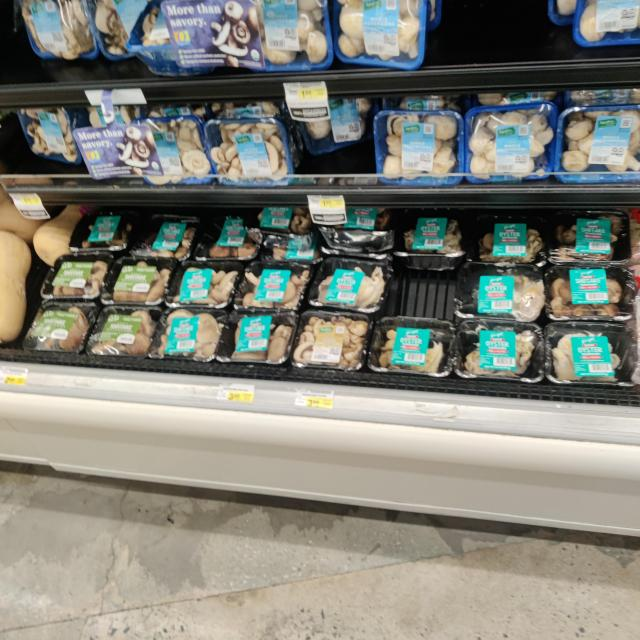Mushroom: (466, 101, 557, 184), (332, 0, 427, 69), (556, 106, 640, 184), (375, 110, 463, 184), (544, 322, 640, 385), (204, 119, 294, 184), (456, 318, 542, 382), (456, 261, 544, 322), (372, 316, 456, 377), (544, 266, 638, 320), (293, 311, 371, 372), (310, 256, 392, 314), (139, 117, 209, 183), (216, 308, 297, 365), (19, 0, 97, 58), (149, 306, 228, 362), (236, 258, 314, 311), (85, 306, 164, 358), (547, 212, 629, 262), (19, 107, 84, 166), (466, 215, 546, 262), (395, 213, 462, 269), (26, 301, 98, 353), (166, 259, 241, 308), (42, 251, 114, 300), (104, 258, 175, 306), (136, 213, 204, 259), (202, 214, 266, 258), (74, 209, 134, 254)
